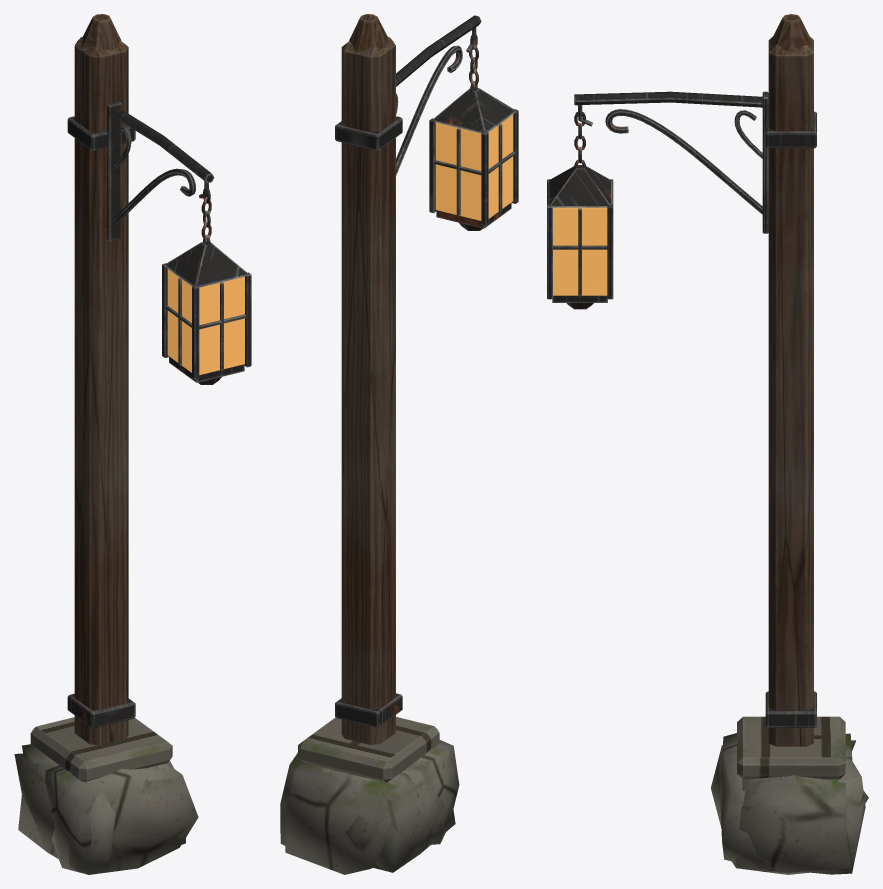
The model's file is lamp_post.glb.
3 views of the same model, side by side, from view 1: azimuth 30°, elevation 25°; view 2: azimuth 150°, elevation 25°; view 3: azimuth 270°, elevation 25° (orthographic).
Parts seen in each view (by area): view 1: lamp_post; view 2: lamp_post; view 3: lamp_post.
Boxes of the visible parts, <box> form: lamp_post: <box>14,14,251,874</box>; lamp_post: <box>280,14,518,874</box>; lamp_post: <box>547,14,868,874</box>.
Size of the model in its own units: 0.5128 by 3.08 by 1.07.
Materials: 2 (2 with a texture image).
